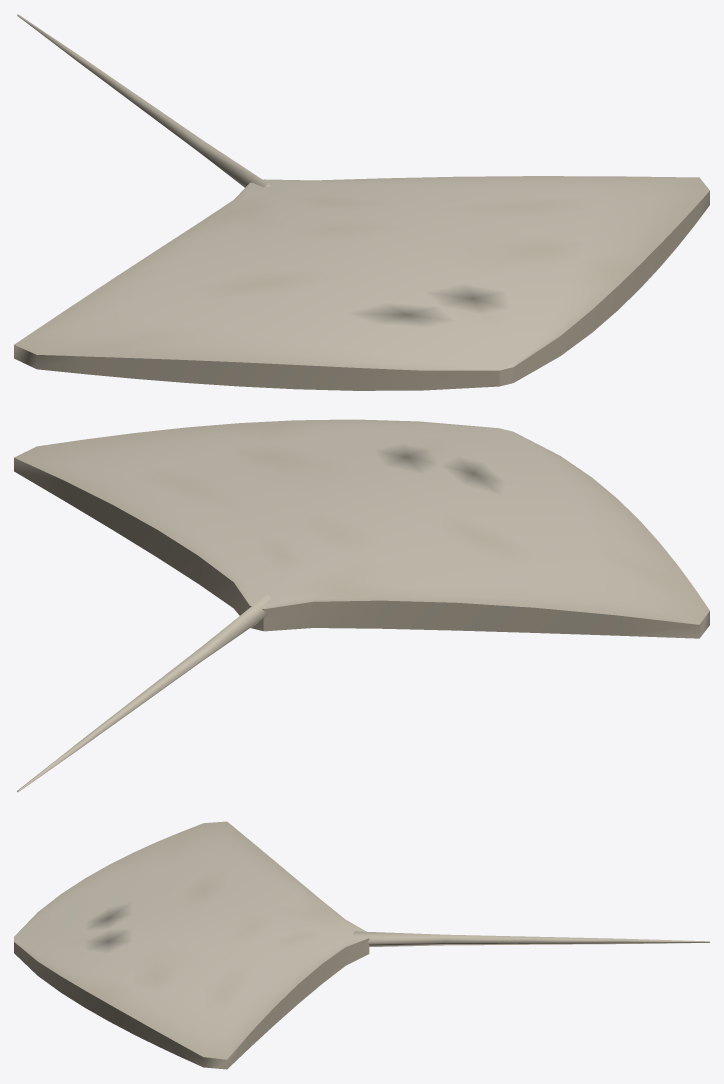
The model's file is rim_ray.glb.
3 renders of one model, top to bottom at view 1: azimuth 30°, elevation 25°; view 2: azimuth 150°, elevation 25°; view 3: azimuth 270°, elevation 25°, orthographic. The views are drawn at different scales.
Parts seen in each view (by area): view 1: rim_ray; view 2: rim_ray; view 3: rim_ray.
Boxes of the visible parts, bbox=[...] form: rim_ray: bbox=[14, 14, 709, 390]; rim_ray: bbox=[14, 419, 709, 791]; rim_ray: bbox=[14, 821, 709, 1069].
Size of the model in its own units: 0.3809 by 0.0207 by 0.4702.
